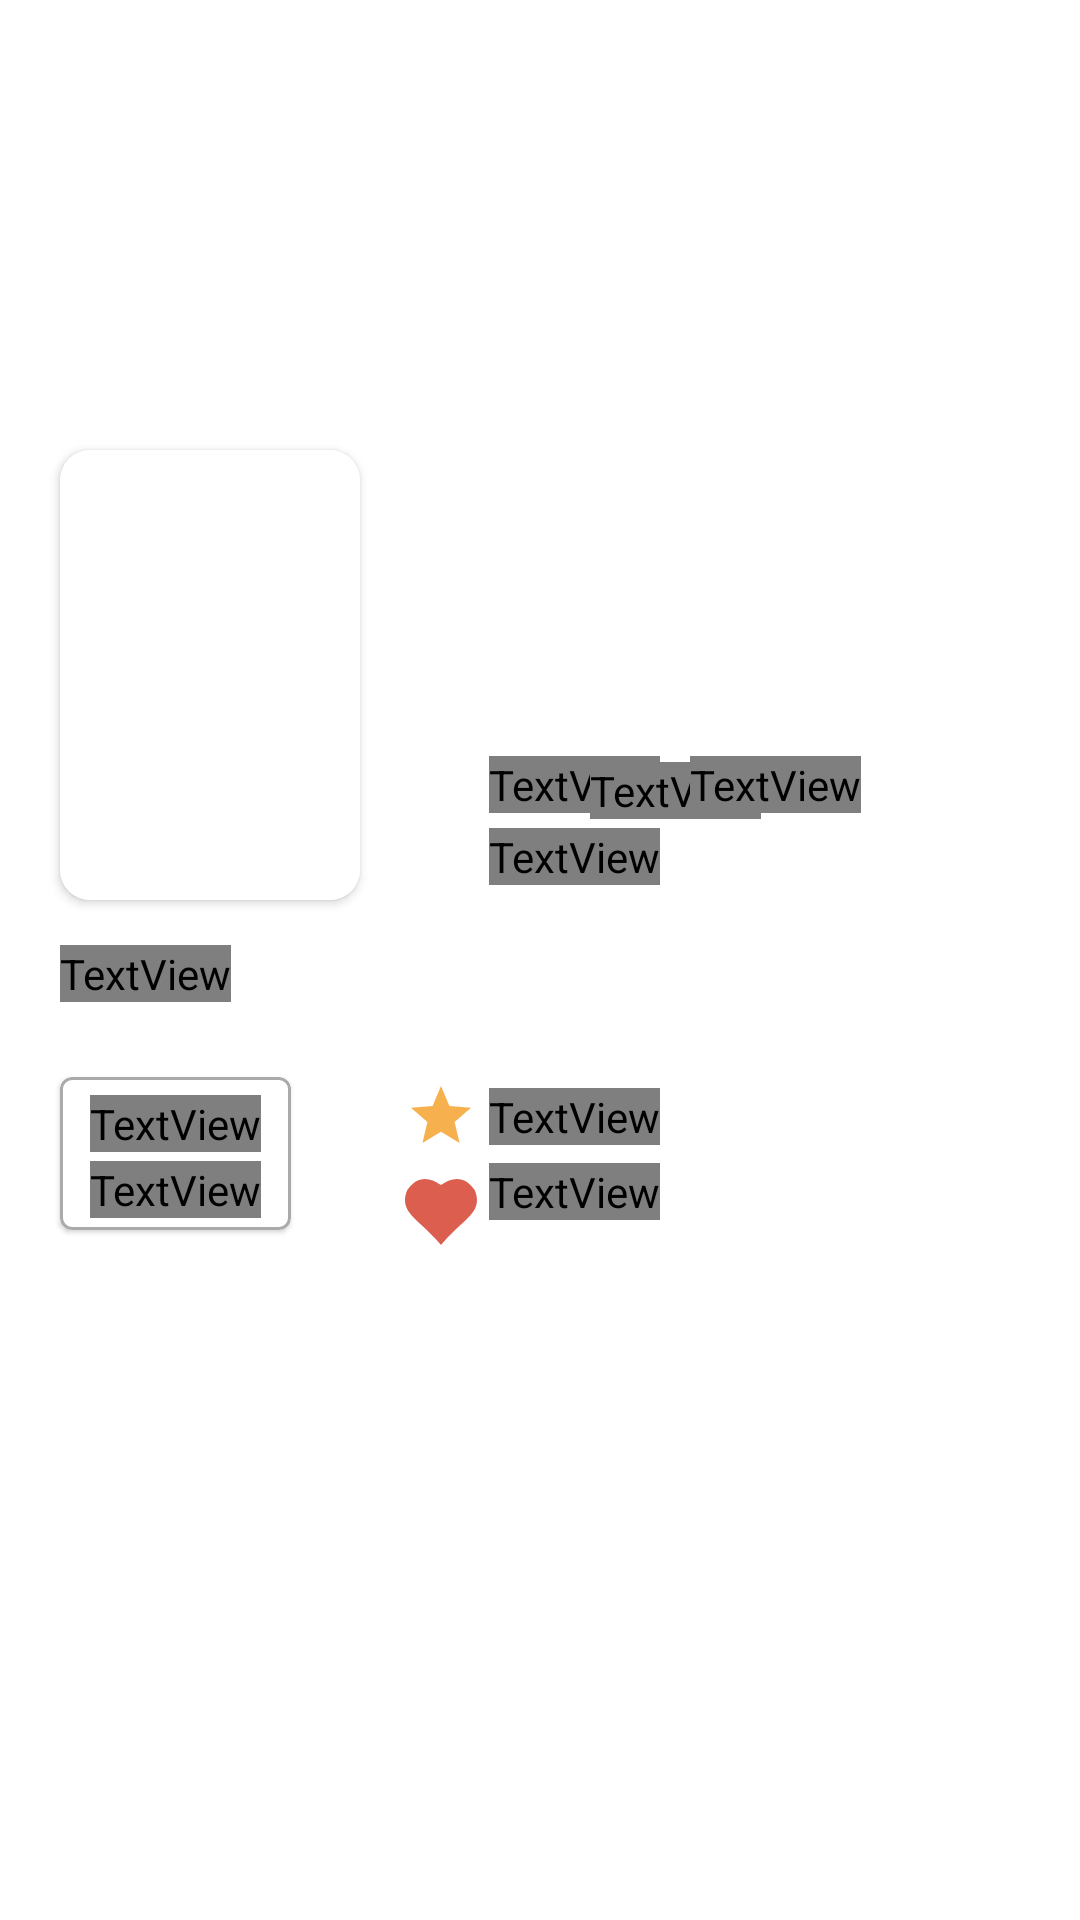

Icon click points for this 1080×1920 phone screenshot, format [x,y]:
heart for popularity: [441,1212]
star for rating: [441,1114]
